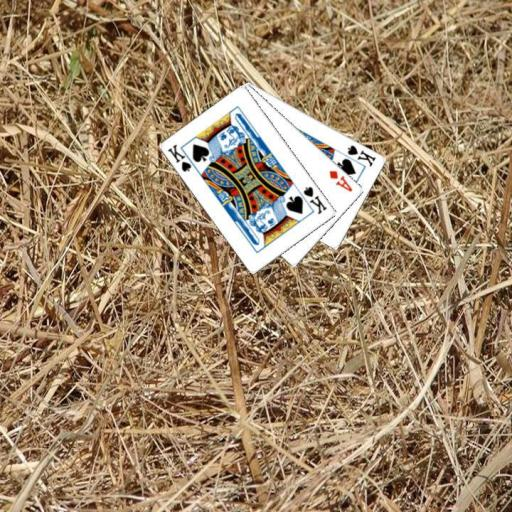AD: (327, 167, 354, 194)
KS: (165, 141, 198, 173), (300, 184, 329, 216), (344, 141, 378, 168)
